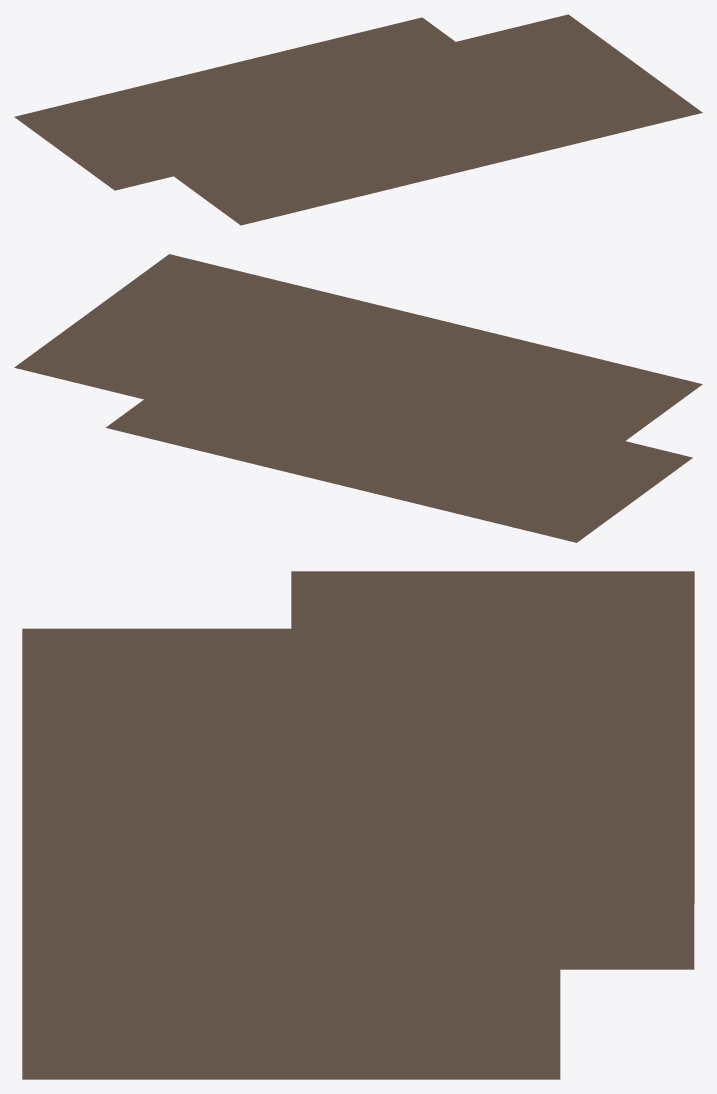
Rendered from N03_Piso_CocinaComedor.fbx.
3 views of the same model, one above another, from view 1: azimuth 30°, elevation 25°; view 2: azimuth 150°, elevation 25°; view 3: azimuth 270°, elevation 25° (orthographic). The views are drawn at different scales.
Parts seen in each view (by area): view 1: N03_Piso_CocinaComedor; view 2: N03_Piso_CocinaComedor; view 3: N03_Piso_CocinaComedor.
Boxes of the visible parts, x1=… form: N03_Piso_CocinaComedor: x1=14, y1=14, x2=702, y2=225; N03_Piso_CocinaComedor: x1=14, y1=254, x2=702, y2=542; N03_Piso_CocinaComedor: x1=22, y1=571, x2=694, y2=1079.
Bounding box in the file's own units: 895 × 8.15e-05 × 500.
Materials: 1 (1 with a texture image).
